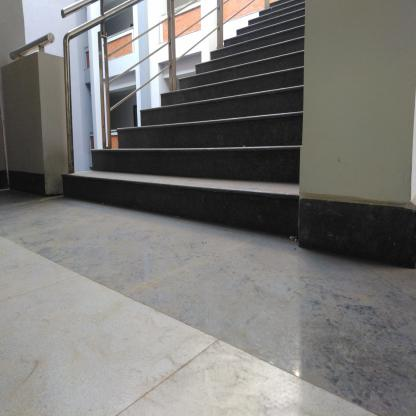stairs: (197, 62, 301, 243)
